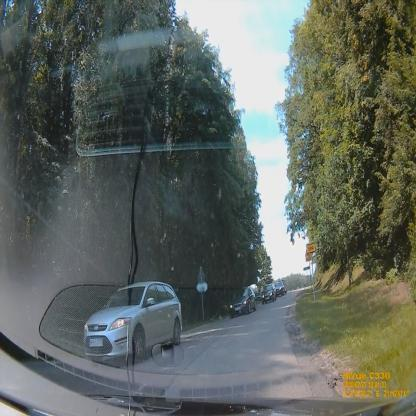cars: (84, 281, 182, 360), (230, 289, 257, 317), (262, 283, 276, 304), (275, 283, 285, 297)
